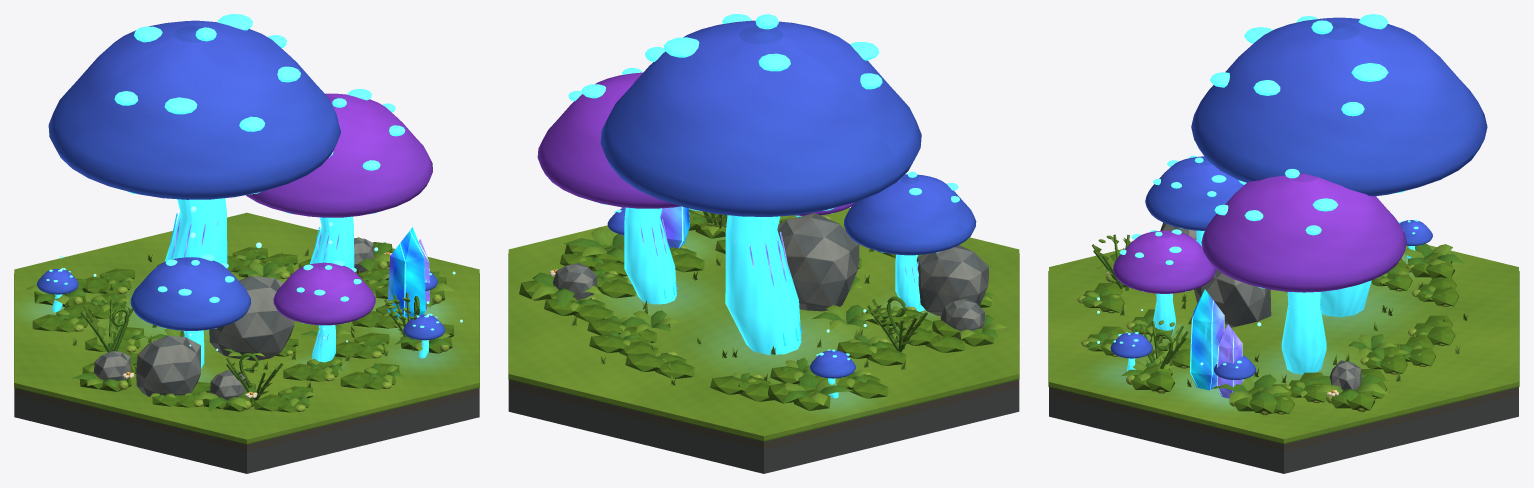
Rendered from hex_glowing_mushrooms.glb.
The picture shows the model from 3 angles, left to right: view 1: azimuth 30°, elevation 25°; view 2: azimuth 150°, elevation 25°; view 3: azimuth 270°, elevation 25°; orthographic projection. The views are drawn at different scales.
Visible parts, largest first — view 1: Broad faceted mushroom cap.001, Standard hex meadow top.001, Broad faceted mushroom cap.003, Standard hex stone foundation.001, Broad faceted mushroom cap.004, Broad faceted mushroom cap.005, Angular mossy forest boulder.001, Standard hex earth layer.001, Angular mossy forest boulder.002, Curving luminous mushroom stem.001, Faceted magical crystal.001, Curving luminous mushroom stem.003 (+7 smaller); view 2: Broad faceted mushroom cap.001, Standard hex meadow top.001, Standard hex stone foundation.001, Curving luminous mushroom stem.001, Broad faceted mushroom cap.004, Broad faceted mushroom cap.003, Angular mossy forest boulder.001, Standard hex earth layer.001, Curving luminous mushroom stem.003, Angular mossy forest boulder.002, Curving luminous mushroom stem.004, Angular mossy forest boulder.004 (+13 smaller); view 3: Standard hex meadow top.001, Broad faceted mushroom cap.001, Broad faceted mushroom cap.003, Standard hex stone foundation.001, Broad faceted mushroom cap.005, Broad faceted mushroom cap.004, Standard hex earth layer.001, Curving luminous mushroom stem.003, Faceted magical crystal.001, Angular mossy forest boulder.001, Curving luminous mushroom stem.001, Faceted magical crystal.003 (+7 smaller).
Part boxes in pixels (x1,y1,x2,y2): Broad faceted mushroom cap.001: (48,20,340,199); Standard hex meadow top.001: (14,212,479,443); Broad faceted mushroom cap.003: (246,93,432,217); Standard hex stone foundation.001: (14,395,479,473); Broad faceted mushroom cap.004: (130,257,250,330); Broad faceted mushroom cap.005: (273,262,375,325); Angular mossy forest boulder.001: (209,276,294,360); Standard hex earth layer.001: (14,388,479,451); Angular mossy forest boulder.002: (136,335,200,397); Curving luminous mushroom stem.001: (164,198,227,268); Faceted magical crystal.001: (387,227,425,321); Curving luminous mushroom stem.003: (310,216,354,268); Broad faceted mushroom cap.001: (600,20,921,216); Standard hex meadow top.001: (508,208,1019,440); Standard hex stone foundation.001: (508,387,1019,473); Curving luminous mushroom stem.001: (725,215,801,354); Broad faceted mushroom cap.004: (843,174,976,255); Broad faceted mushroom cap.003: (537,72,680,208); Angular mossy forest boulder.001: (777,213,859,311); Standard hex earth layer.001: (508,379,1019,449); Curving luminous mushroom stem.003: (624,207,676,304); Angular mossy forest boulder.002: (916,245,988,316); Curving luminous mushroom stem.004: (895,254,925,311); Angular mossy forest boulder.004: (553,263,597,300); Standard hex meadow top.001: (1049,245,1518,442); Broad faceted mushroom cap.001: (1191,17,1487,196); Broad faceted mushroom cap.003: (1201,173,1406,292); Standard hex stone foundation.001: (1049,394,1518,473); Broad faceted mushroom cap.005: (1113,230,1216,293); Broad faceted mushroom cap.004: (1145,156,1243,230); Standard hex earth layer.001: (1049,387,1518,451); Curving luminous mushroom stem.003: (1281,292,1326,374); Faceted magical crystal.001: (1190,289,1224,390); Angular mossy forest boulder.001: (1194,269,1271,327); Curving luminous mushroom stem.001: (1320,280,1371,317); Faceted magical crystal.003: (1216,324,1243,398).
Bounding box in the file's own units: 5.11 × 3.39 × 4.42.
Materials: 37 (27 with a texture image).
